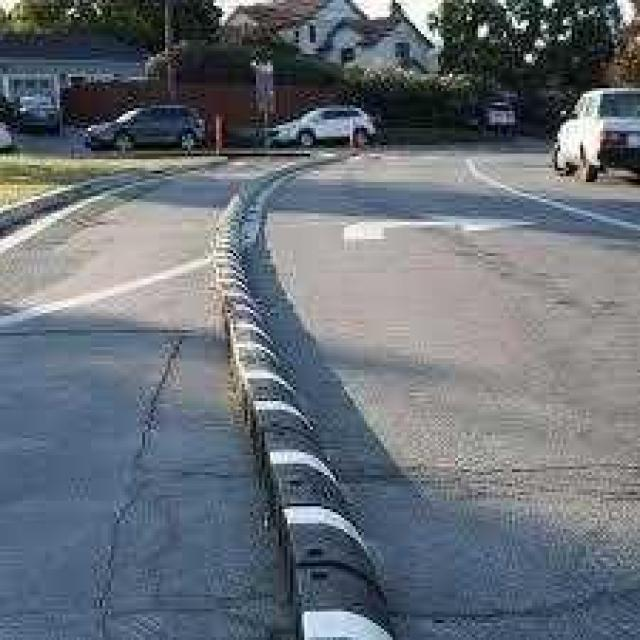curb: (212, 281, 343, 514), (285, 511, 388, 640), (204, 188, 264, 283), (47, 170, 138, 217), (1, 191, 33, 246)
